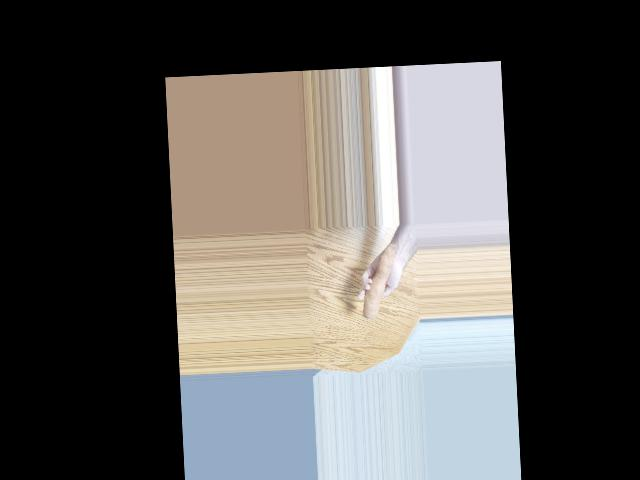sweet_potato: (364, 243, 400, 316)
